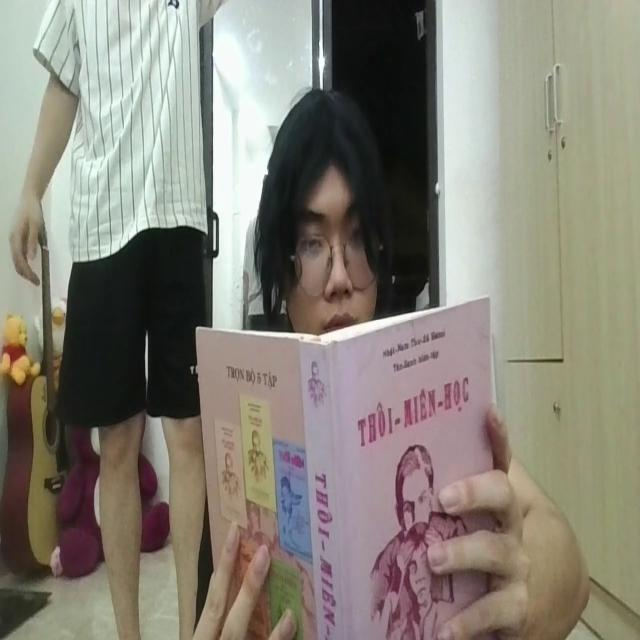book: (197, 290, 504, 640)
extra_person: (11, 0, 226, 640)
student: (253, 75, 394, 332)
